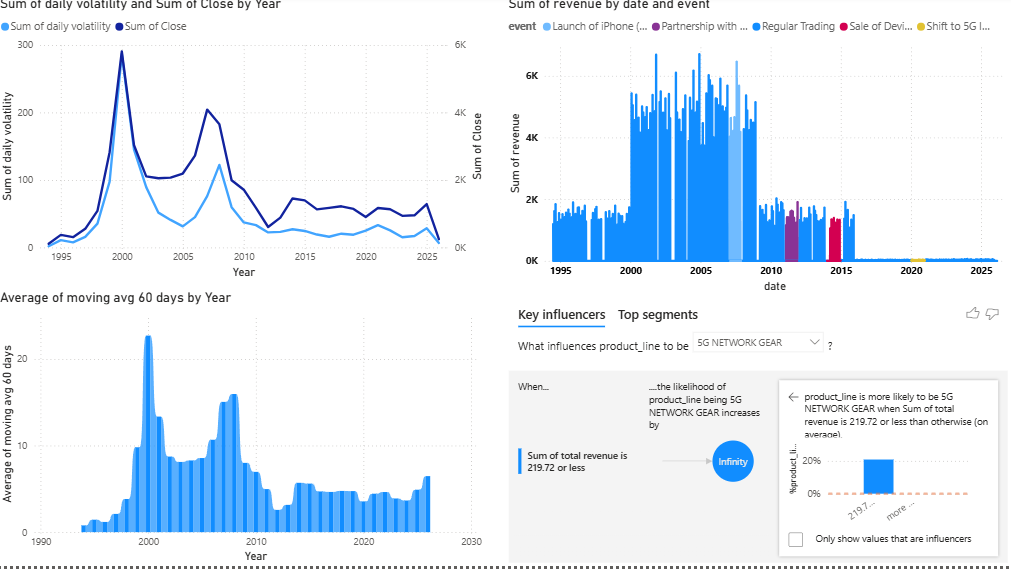

This screenshot's page, from the dashboard's own definition file:
{"tool":"powerbi","page":{"name":"Page 3","canvas":[1280,720],"ordinal":2},"visuals":[{"type":"lineChart","fields":{"Category":["gold vm_dashboard_stock_performanc.Date.Variation.Date Hierarchy.Year"],"Y":["Sum(gold vm_dashboard_stock_performanc.daily volatility)"],"Y2":["Sum(gold vm_dashboard_stock_performanc.Close)"]},"box":[0,0,617.6,360.8],"z":0},{"type":"areaChart","fields":{"Category":["gold vm_dashboard_strategic_insights.date"],"Y":["Sum(gold vm_dashboard_strategic_insights.revenue)"],"Series":["gold vm_dashboard_strategic_insights.event"]},"box":[641.2,0,639.2,378.4],"z":1000},{"type":"ribbonChart","fields":{"Category":["gold vm_dashboard_stock_performanc.Date.Variation.Date Hierarchy.Year","gold vm_dashboard_stock_performanc.Date.Variation.Date Hierarchy.Quarter"],"Y":["Avg(gold vm_dashboard_stock_performanc.moving avg 60 days)"]},"box":[0,371,618,349],"z":2000},{"type":"keyDriversVisual","fields":{"Target":["gold vm_dashboard_financial_summary.product_line"],"ExplainBy":["Sum(gold vm_dashboard_financial_summary.total revenue)"]},"box":[641,378,639,342],"z":3000}]}

Visuals, with their boxes in screenshot pixels (x1, y1, x2, y2), scaled from the page's 1280x720 canvas onto the 1011x573 screenshot:
lineChart - gold vm_dashboard_stock_performanc.Date.Variation.Date Hierarchy.Year x Sum(gold vm_dashboard_stock_performanc.daily volatility): select_region(0, 0, 488, 287)
areaChart - gold vm_dashboard_strategic_insights.date x Sum(gold vm_dashboard_strategic_insights.revenue): select_region(506, 0, 1010, 301)
ribbonChart - gold vm_dashboard_stock_performanc.Date.Variation.Date Hierarchy.Year x gold vm_dashboard_stock_performanc.Date.Variation.Date Hierarchy.Quarter: select_region(0, 295, 488, 572)
keyDriversVisual - gold vm_dashboard_financial_summary.product_line x Sum(gold vm_dashboard_financial_summary.total revenue): select_region(506, 301, 1010, 572)
